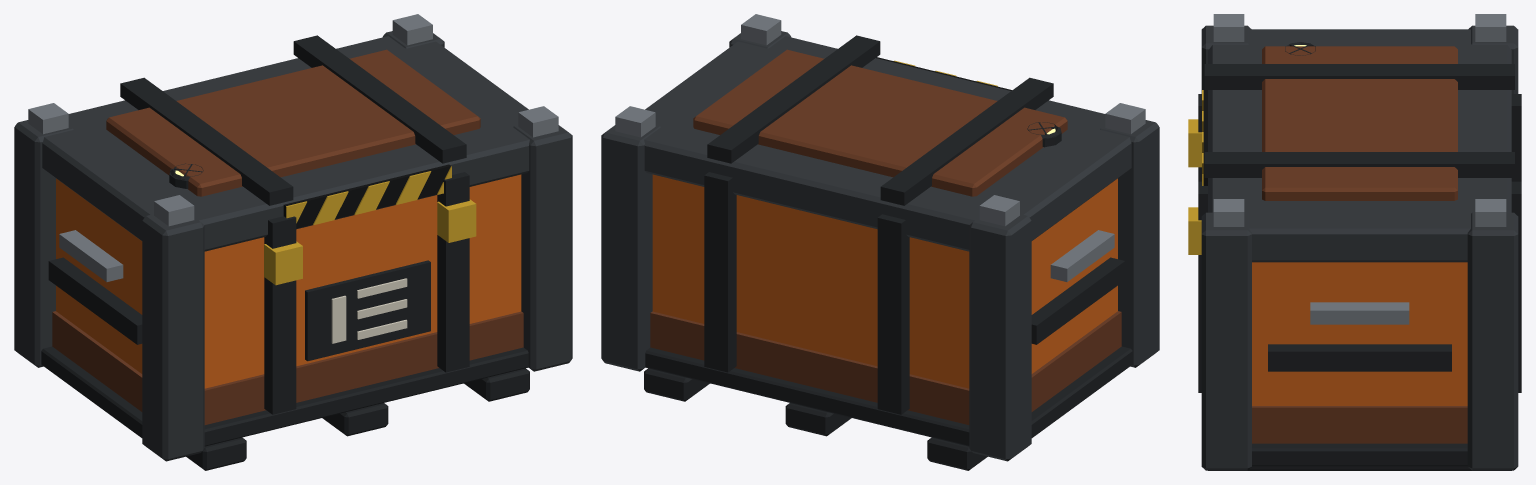
Rendered from desert_crate_large.fbx.
3 views of the same model, side by side, from view 1: azimuth 30°, elevation 25°; view 2: azimuth 150°, elevation 25°; view 3: azimuth 270°, elevation 25° (orthographic). The views are drawn at different scales.
Visible parts, largest first — view 1: Body; view 2: Body; view 3: Body.
Part boxes in pixels (box(x1,y1,x2,y2)): Body: box(14, 14, 572, 470); Body: box(601, 14, 1159, 470); Body: box(1188, 14, 1521, 470).
Bounding box in the file's own units: 4.6 × 2.77 × 3.03.
Materials: 2 (1 with a texture image).
